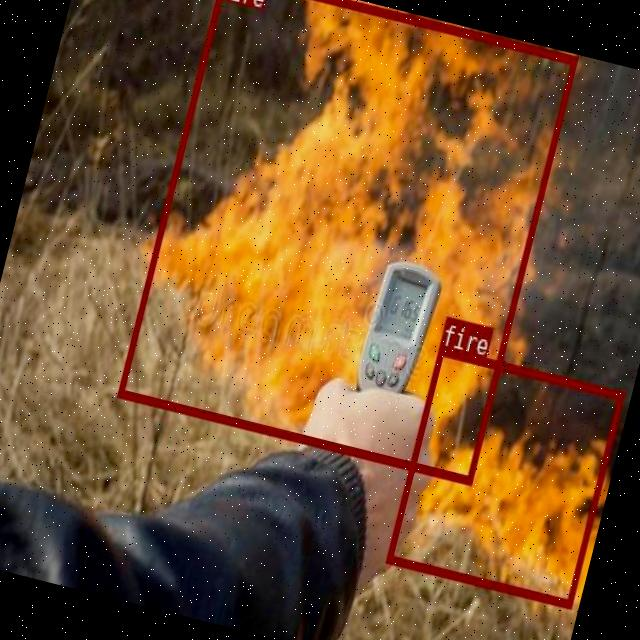fire: (116, 0, 577, 482), (385, 344, 624, 606)
